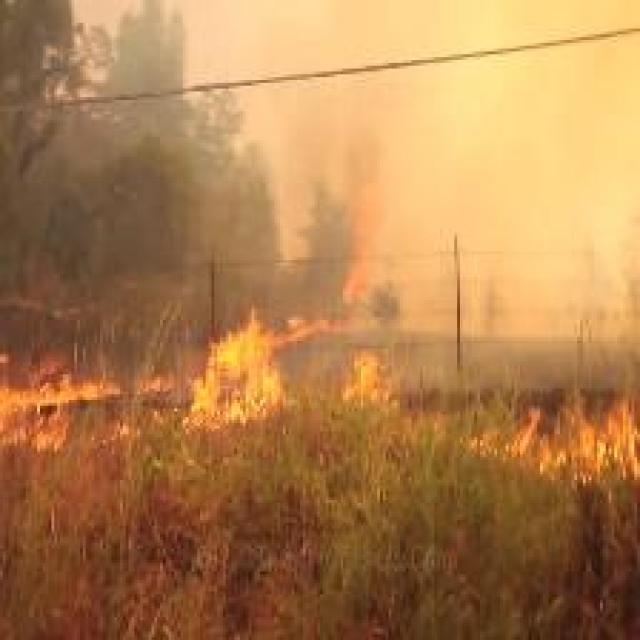Fire: (0, 352, 171, 447), (463, 398, 640, 484), (180, 308, 294, 432), (344, 134, 372, 302), (342, 343, 408, 406)
